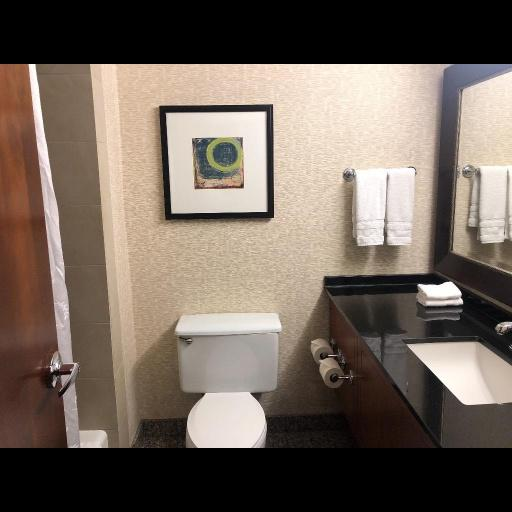clean mirror: (451, 69, 511, 274)
clean_sink: (319, 267, 511, 453)
clean_toilet: (167, 309, 289, 454)
folded_towel: (351, 166, 417, 251), (405, 274, 474, 312)
